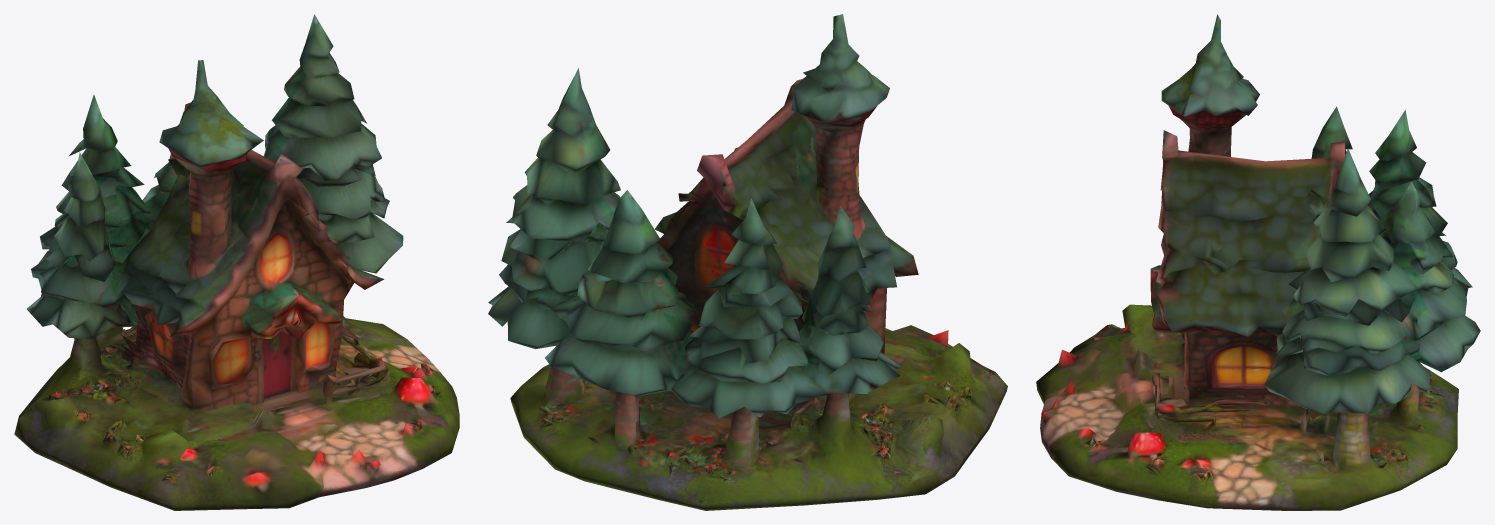
File: StorybookHouse.glb
The picture shows the model from 3 angles, left to right: view 1: azimuth 30°, elevation 25°; view 2: azimuth 150°, elevation 25°; view 3: azimuth 270°, elevation 25°; orthographic projection. The views are drawn at different scales.
Size of the model in its own units: 1.9 by 1.76 by 1.88.
Materials: 1 (1 with a texture image).
